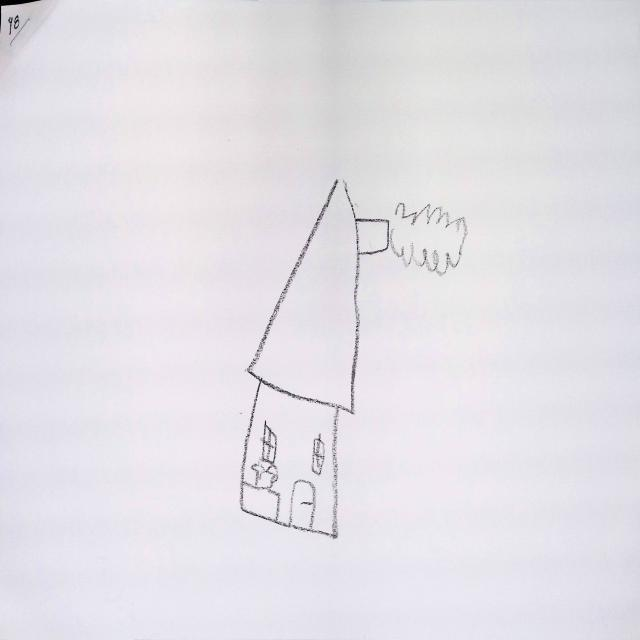chimney: (358, 219, 390, 254)
door: (290, 481, 316, 530)
house: (240, 180, 390, 538)
roof: (246, 178, 358, 415)
wall: (241, 384, 339, 538)
window: (262, 422, 277, 464), (312, 435, 326, 476)
